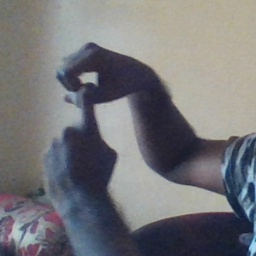Q: (36, 43, 143, 189)
